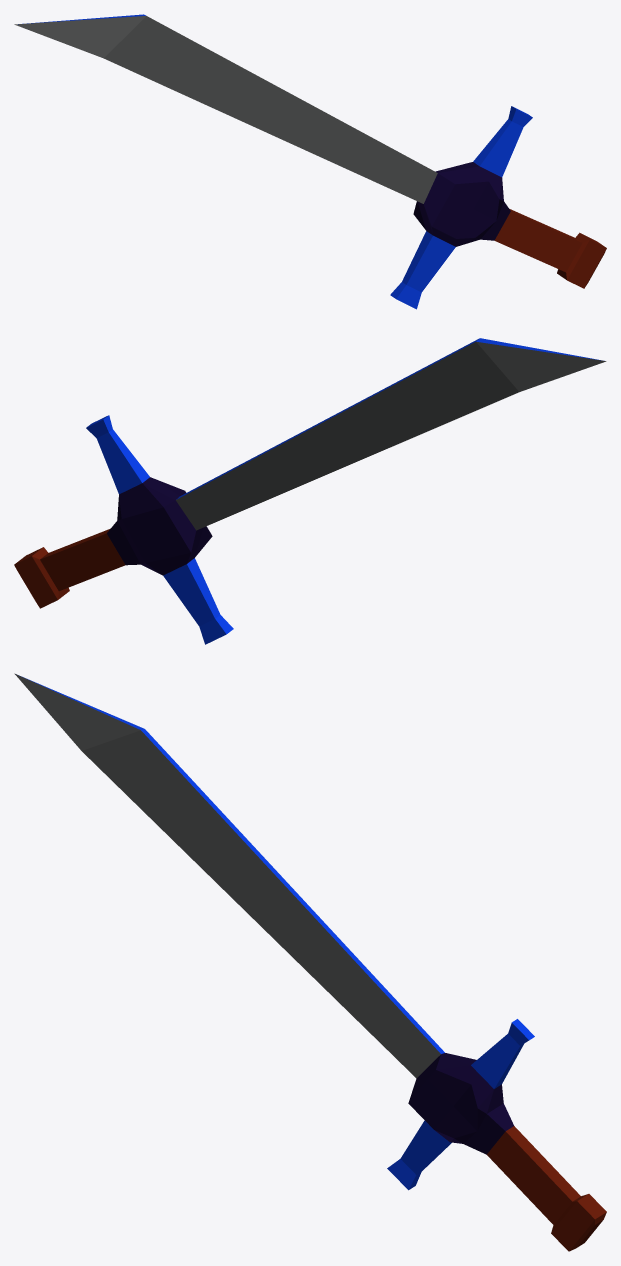
File: item-sword-3.glb
3 renders of one model, top to bottom at view 1: azimuth 30°, elevation 25°; view 2: azimuth 150°, elevation 25°; view 3: azimuth 330°, elevation 25°, orthographic. The views are drawn at different scales.
Visible parts, largest first — view 1: Cube; view 2: Cube; view 3: Cube.
Boxes of the visible parts, box(x1,y1,x2,y2) form: Cube: box(14, 14, 606, 309); Cube: box(14, 338, 606, 644); Cube: box(14, 673, 606, 1251).
Bounding box in the file's own units: 0.9656 × 0.6126 × 0.1052.
